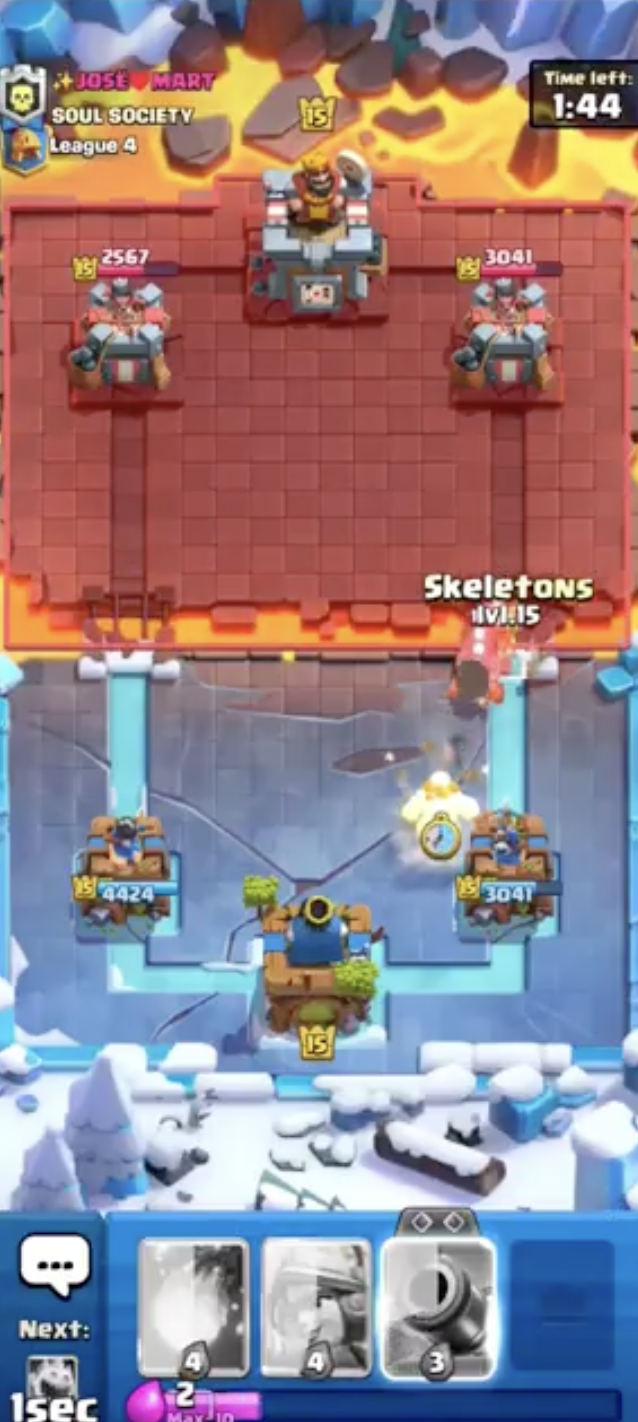ice_golem: (394, 748, 485, 859)
